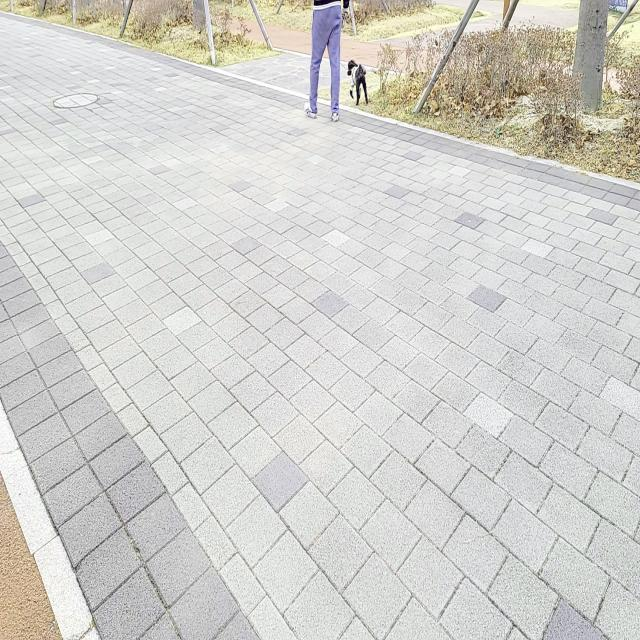Leashed_Dog: (331, 0, 369, 107)
